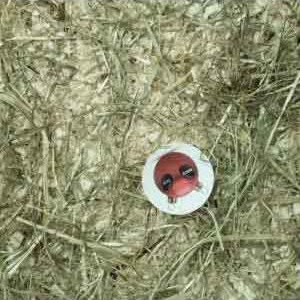badge: (141, 143, 216, 215)
